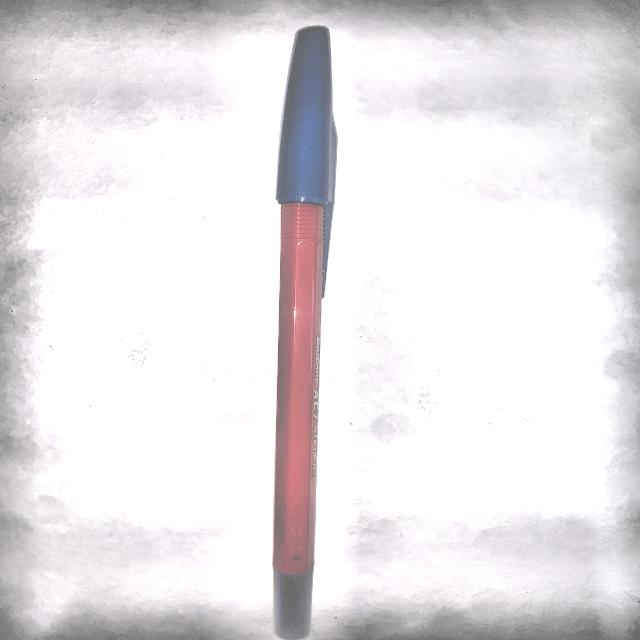Pulpen: (260, 21, 358, 640)
